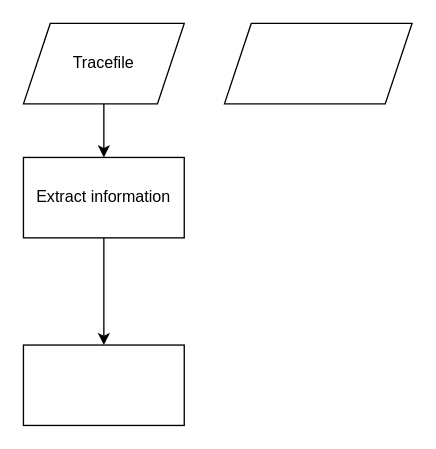
Some shapes in this 436 by 449 pixel diagram are drawn without their labels. The box of each missing label's shape, as (x1, y1, x2, y2) in pixels:
Fancy plot in format Seconds/Packetloss: (22, 344, 184, 425)
Sliding_window_size: (223, 22, 412, 104)
